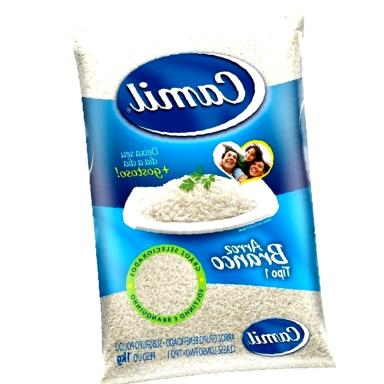rice package: (74, 13, 334, 383)
